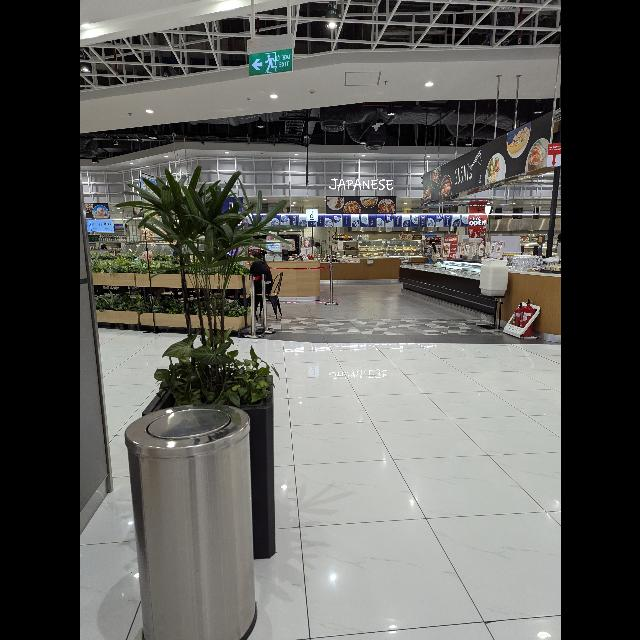exit: (248, 48, 292, 76)
